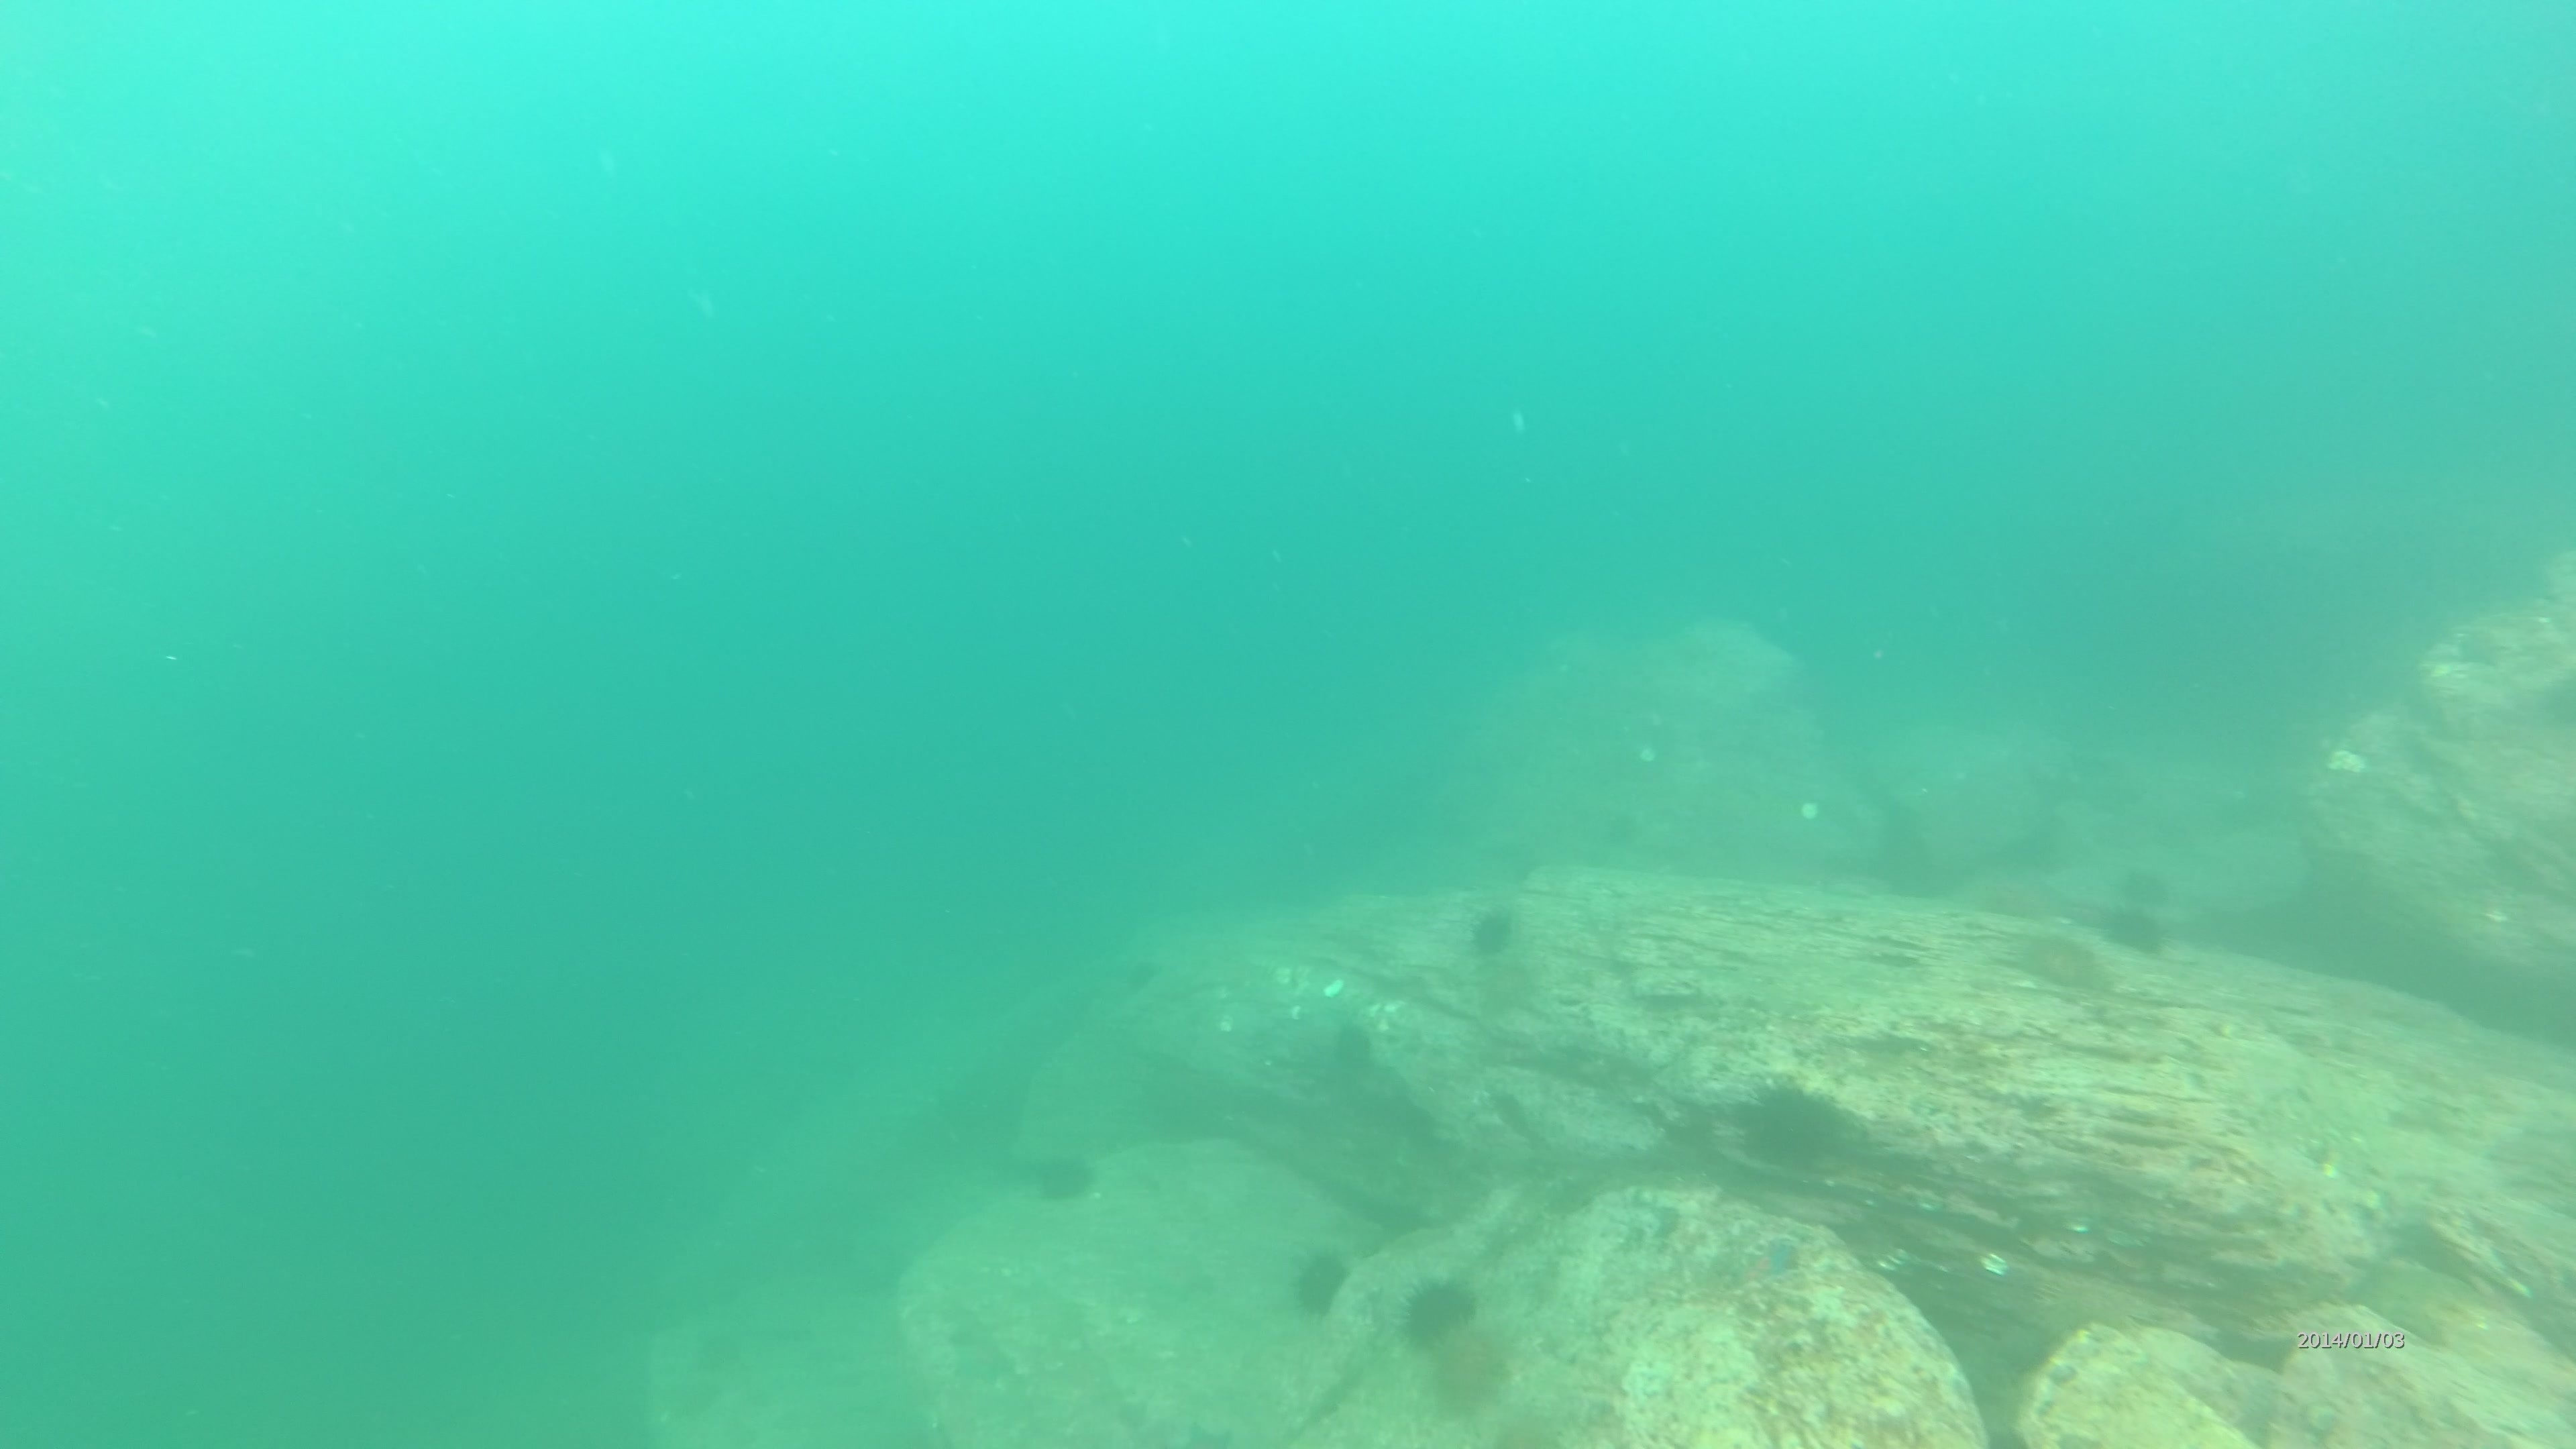echinus: (1729, 1074, 1852, 1180), (1421, 1318, 1518, 1419), (1394, 1267, 1484, 1353), (1281, 1240, 1355, 1323), (1023, 1141, 1102, 1210), (2097, 893, 2176, 961), (1316, 1014, 1382, 1085), (1461, 899, 1523, 962), (2121, 870, 2173, 908)
